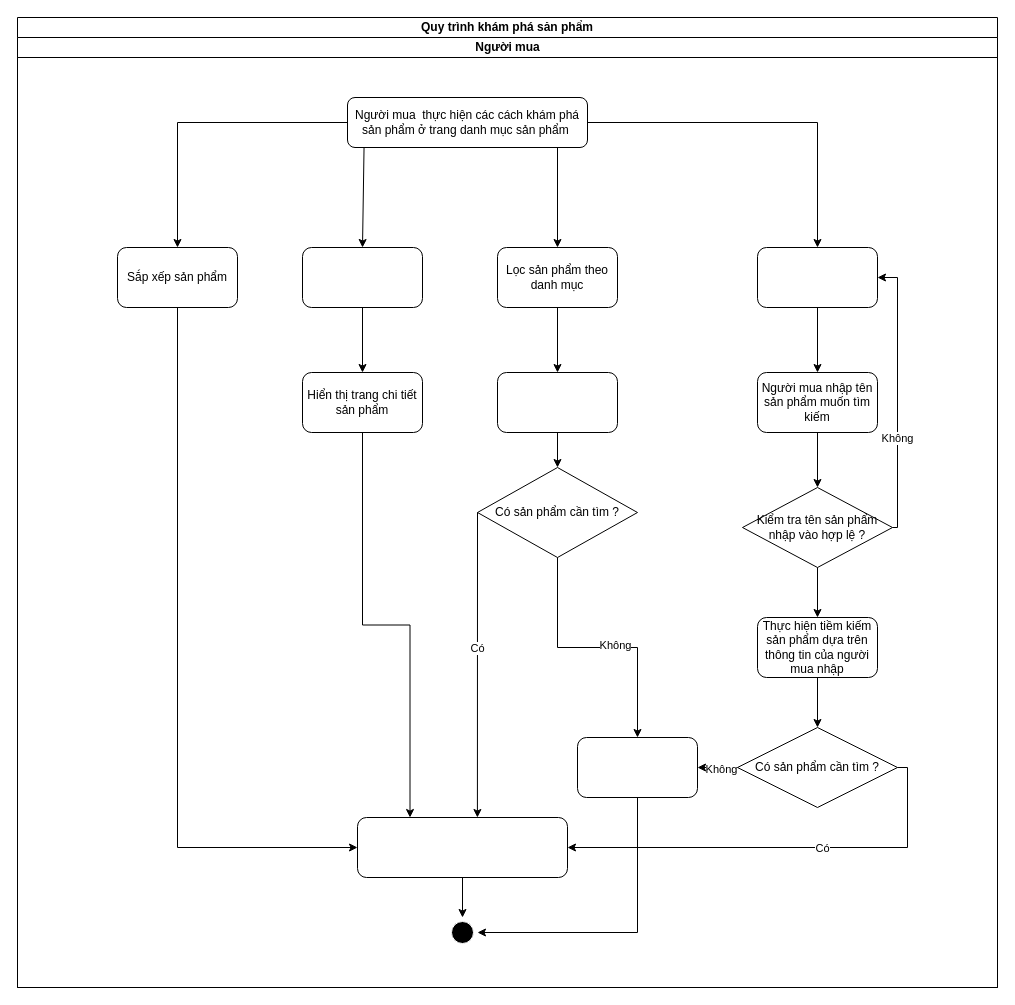
Image size: 1015x1005. Some labels were removed from this diagram. The shapes that lost their labels are listed below. From the top down, each one's centre as x and y in pixels, then its label:
At pixel 362 277: "Xem chi tiết sản phẩm".
At pixel 817 277: "Tìm kiếm sản phẩm".
At pixel 557 402: "Người mua chọn danh mục sản phẩm".
At pixel 637 767: "Hiện thị dòng thông báo không tìm thấy sản phẩm".
At pixel 462 847: "Đưa ra danh sách kết quả".
